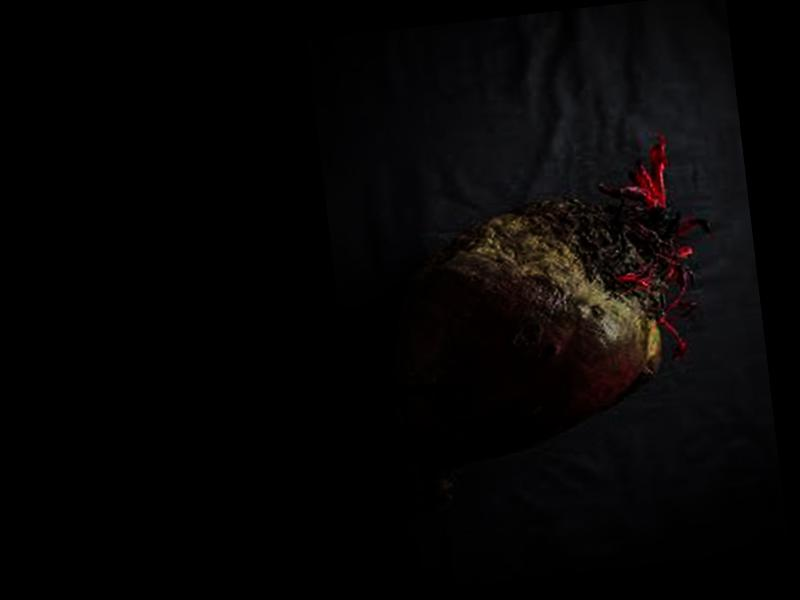Beet: (368, 132, 738, 516)
